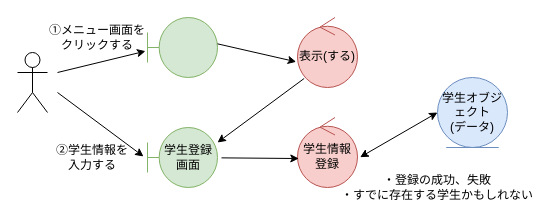
Image size: 555x220. Some labels were removed from this diagram. Each missing label, with the centre of its shape:
メニュー画面: (x=182, y=47)
学生: (x=32, y=82)
